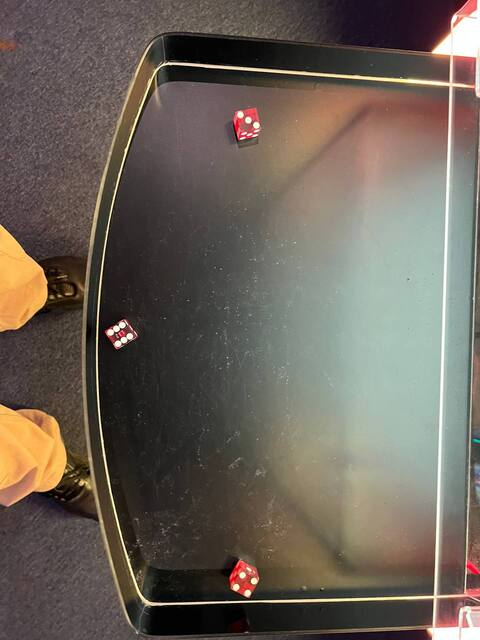four: (229, 569, 259, 599)
six: (102, 318, 139, 355)
three: (231, 106, 264, 135)
